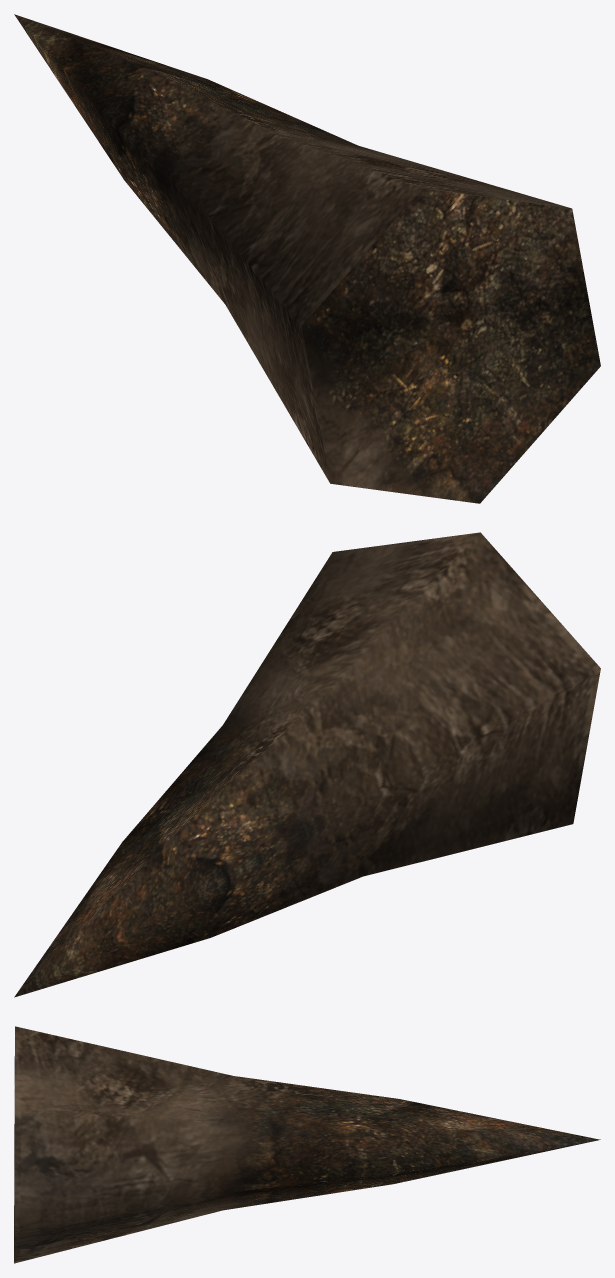
Rendered from stalactite_08.obj.
3 renders of one model, top to bottom at view 1: azimuth 30°, elevation 25°; view 2: azimuth 150°, elevation 25°; view 3: azimuth 270°, elevation 25°, orthographic. The views are drawn at different scales.
Visible parts, largest first — view 1: (null); view 2: (null); view 3: (null).
Boxes of the visible parts, x1,y1,x2,y2 form: (null): (14,14,600,503); (null): (14,532,600,997); (null): (14,1026,600,1263).
Bounding box in the file's own units: 3.05 × 3.2 × 7.78.
